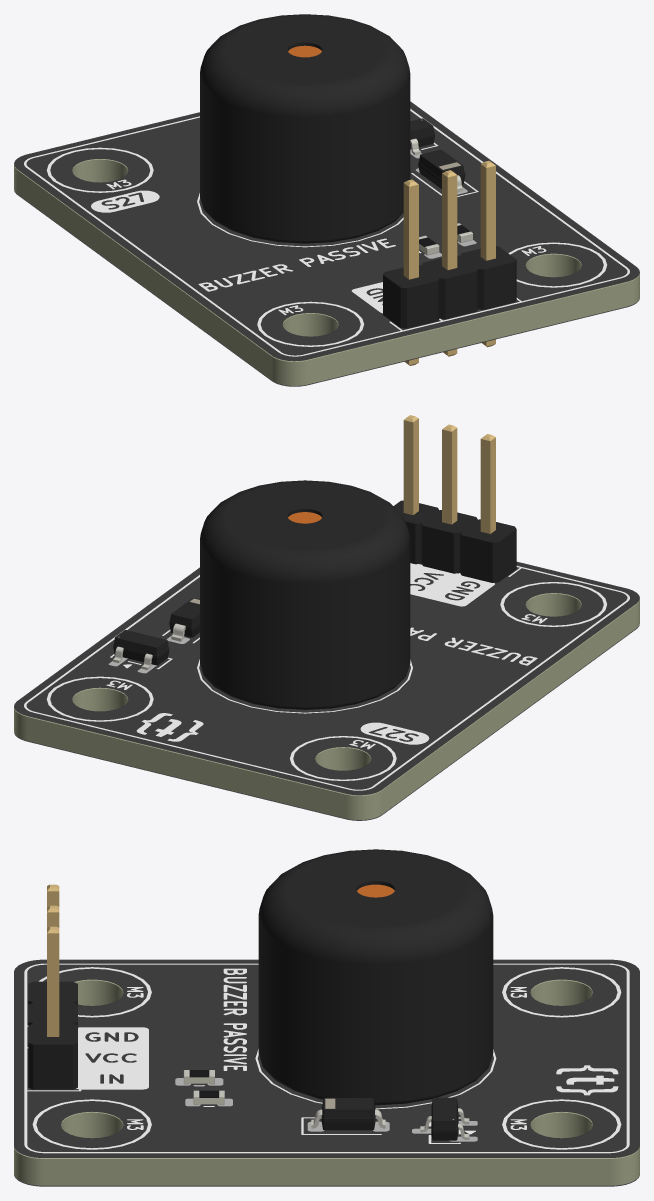
3 renders of one model, top to bottom at view 1: azimuth 30°, elevation 25°; view 2: azimuth 150°, elevation 25°; view 3: azimuth 270°, elevation 25°, orthographic. The views are drawn at different scales.
Parts seen in each view (by area): view 1: =>[0:1:1:10], BZ1, =>[0:1:1:12], J1, =>[0:1:1:8], D1, =>[0:1:1:11], Q1; view 2: =>[0:1:1:10], BZ1, =>[0:1:1:12], J1, =>[0:1:1:8], Q1, D1, =>[0:1:1:11]; view 3: =>[0:1:1:10], BZ1, =>[0:1:1:12], =>[0:1:1:8], J1, D1, Q1, =>[0:1:1:11], =>[0:1:1:7], R1.
Part boxes in pixels (<box>): =>[0:1:1:10]: <box>14,101,639,361</box>; BZ1: <box>200,14,410,243</box>; =>[0:1:1:12]: <box>14,159,639,385</box>; J1: <box>383,160,516,365</box>; =>[0:1:1:8]: <box>24,109,629,356</box>; D1: <box>418,149,465,192</box>; =>[0:1:1:11]: <box>14,190,639,386</box>; Q1: <box>410,118,434,154</box>; =>[0:1:1:10]: <box>14,561,639,795</box>; BZ1: <box>200,480,410,709</box>; =>[0:1:1:12]: <box>14,593,639,819</box>; J1: <box>393,415,516,582</box>; =>[0:1:1:8]: <box>24,563,629,790</box>; Q1: <box>113,630,169,669</box>; D1: <box>169,598,199,641</box>; =>[0:1:1:11]: <box>14,625,639,820</box>; =>[0:1:1:10]: <box>14,959,639,1157</box>; BZ1: <box>258,849,493,1105</box>; =>[0:1:1:12]: <box>14,979,639,1185</box>; =>[0:1:1:8]: <box>24,963,629,1153</box>; J1: <box>28,884,77,1089</box>; D1: <box>311,1098,385,1130</box>; Q1: <box>420,1097,469,1140</box>; =>[0:1:1:11]: <box>14,1174,639,1186</box>; =>[0:1:1:7]: <box>175,1078,477,1141</box>; R1: <box>193,1090,224,1105</box>.
Size of the model in its own units: 0.024 by 0.0125 by 0.032.
